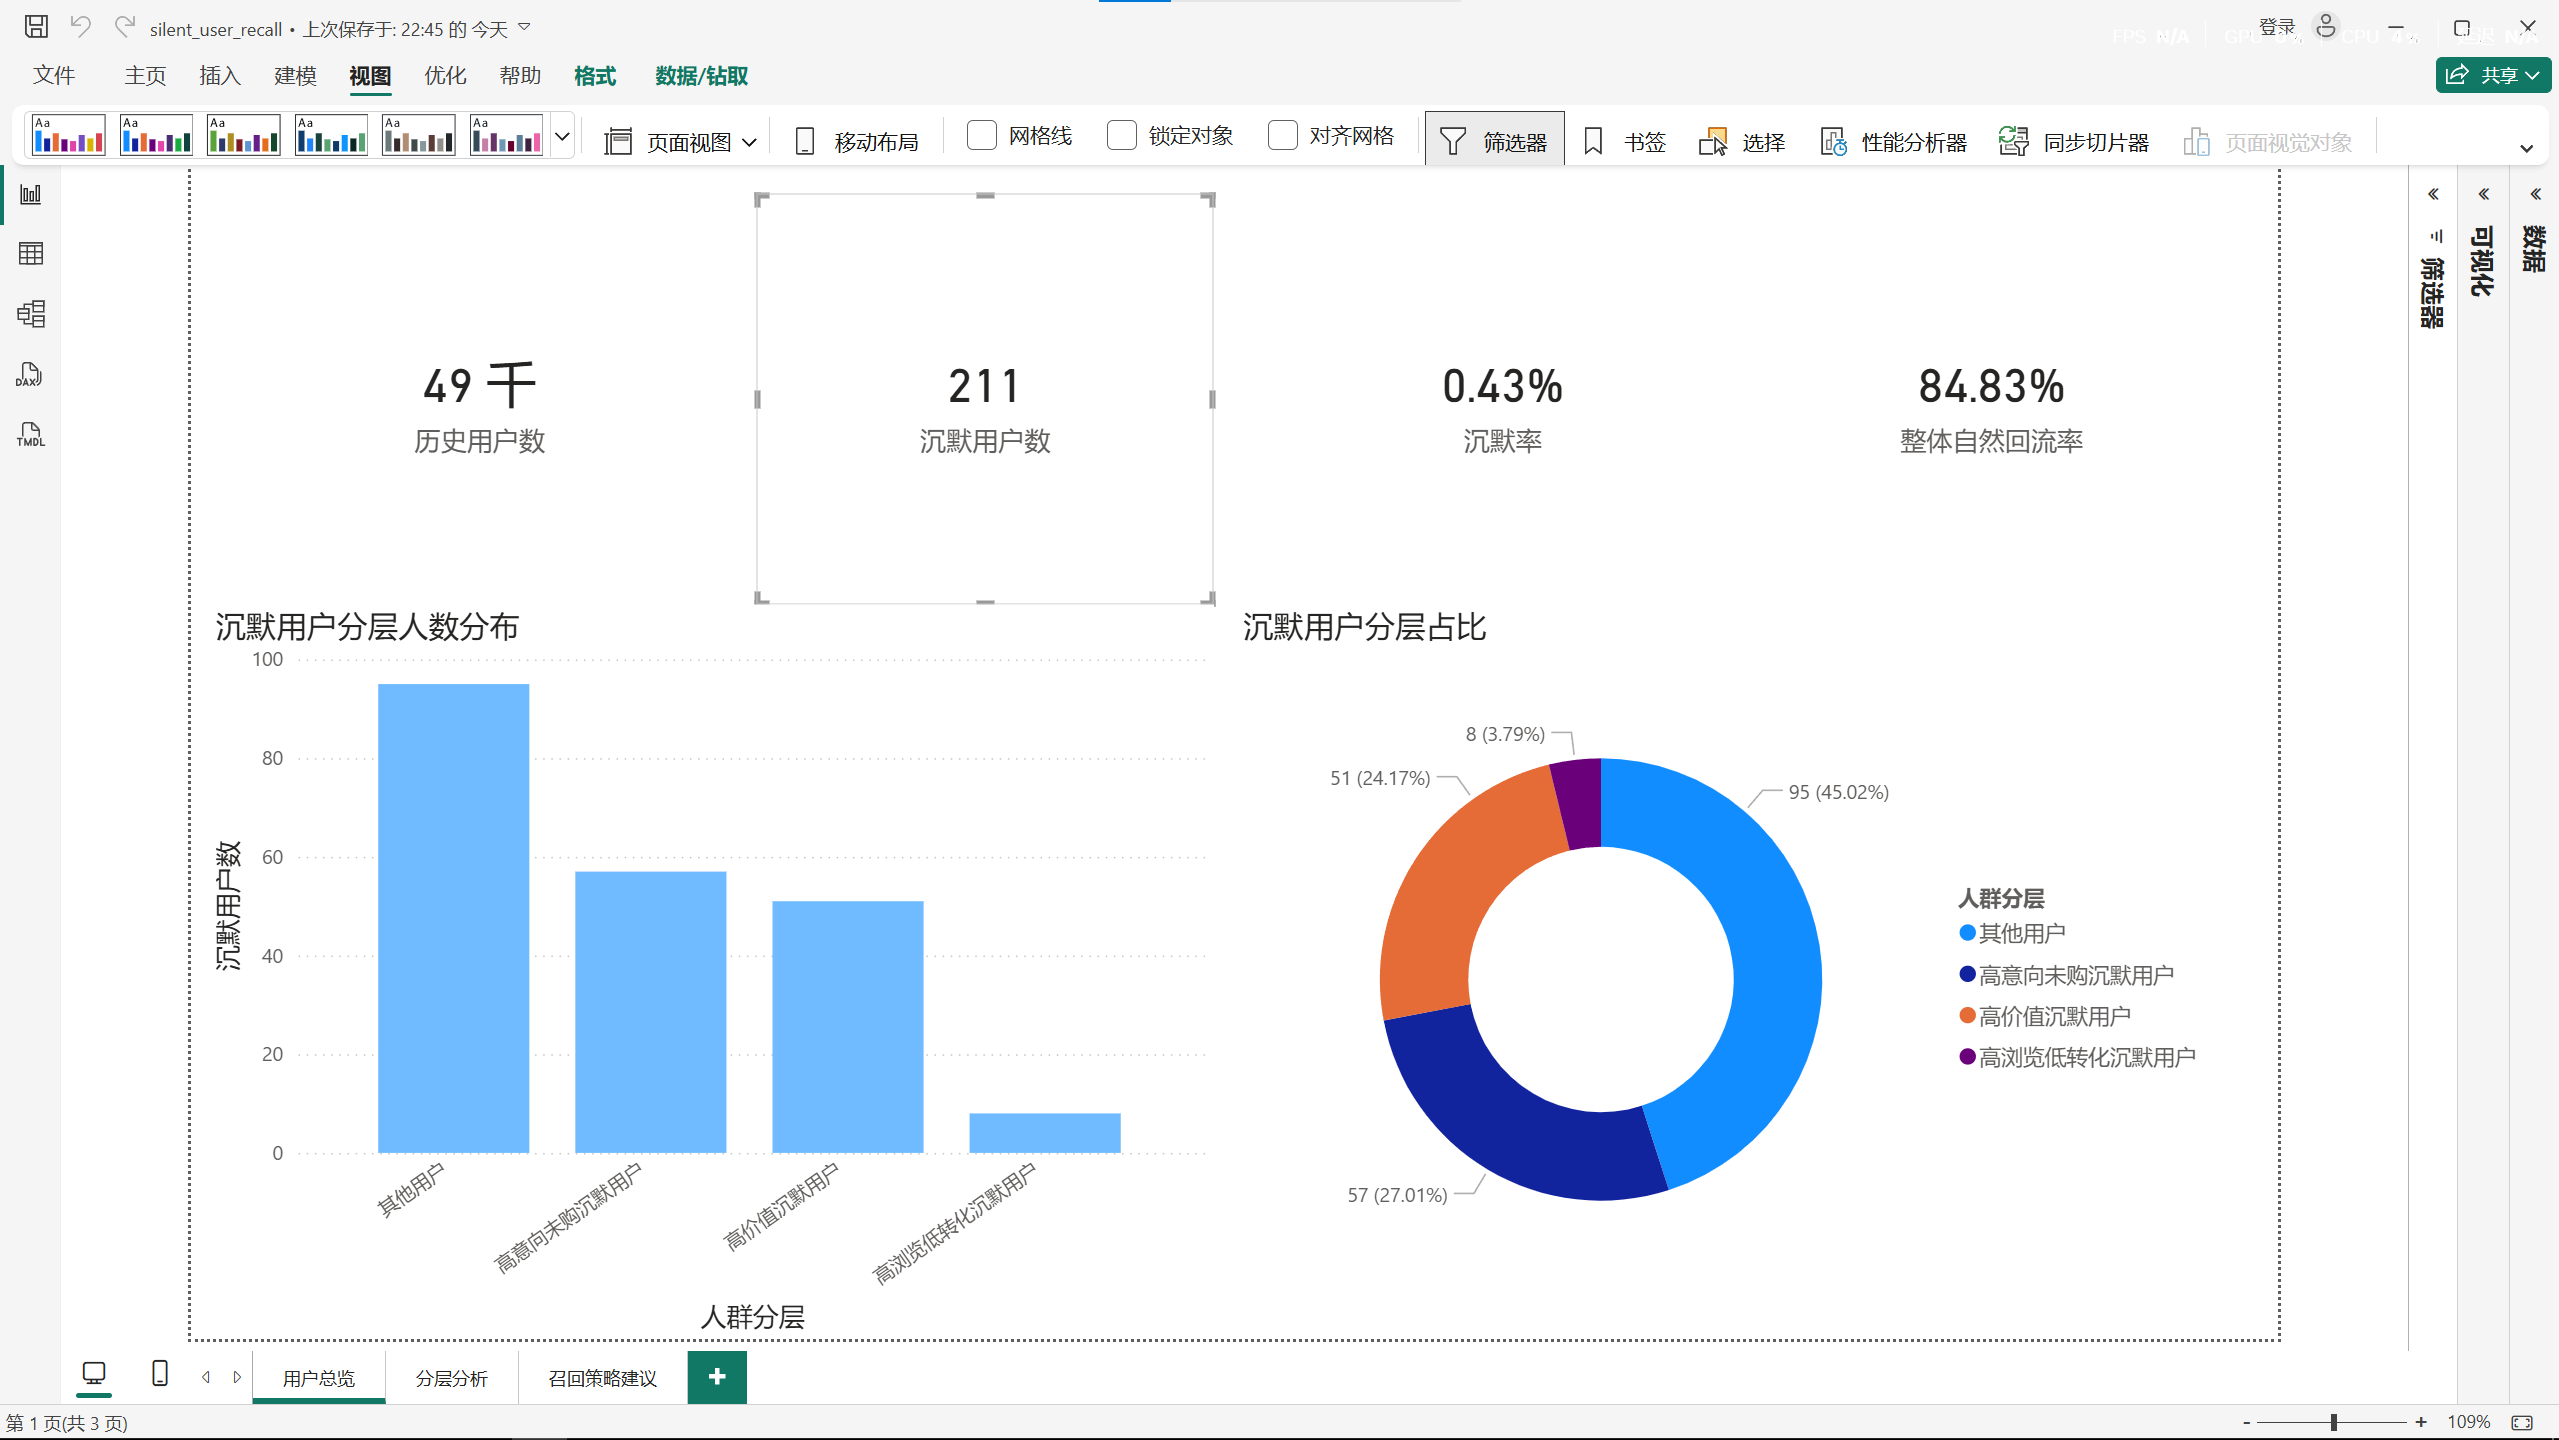

Layout of this report page (visuals, bound fields, positions):
{"tool":"powerbi","page":{"name":"用户总览","canvas":[1280,720],"ordinal":0},"visuals":[{"type":"card","fields":{"Values":["taobao_project_recall_segment.History Users"]},"box":[37.1,17.1,280,252.9],"z":0},{"type":"card","fields":{"Values":["taobao_project_recall_segment.Silent Users"]},"box":[347.1,17.1,280,252.9],"z":1000},{"type":"card","fields":{"Values":["taobao_project_recall_segment.Silent Rate"]},"box":[664.3,17.1,280,252.9],"z":2000},{"type":"card","fields":{"Values":["taobao_project_recall_segment.Overall Natural Return Rate"]},"box":[964.3,17.1,280,252.9],"z":3000},{"type":"clusteredColumnChart","title":"沉默用户分层人数分布","fields":{"Category":["taobao_project_recall_segment.segment"],"Y":["Count(taobao_project_recall_segment.user_id)"]},"box":[10,270,617.1,450],"z":4000},{"type":"donutChart","title":"沉默用户分层占比","fields":{"Category":["taobao_project_recall_segment.segment"],"Y":["Count(taobao_project_recall_segment.user_id)"]},"box":[640,270,604.3,440],"z":5000}]}

Visuals, with their boxes on the page's 1280x720 design canvas (x1, y1, x2, y2). These are canvas units, not pixel positions in the 2559x1440 screenshot, which may show the page scaled, cropped or inside an application window:
card - taobao_project_recall_segment.History Users: box(37, 17, 317, 270)
card - taobao_project_recall_segment.Silent Users: box(347, 17, 627, 270)
card - taobao_project_recall_segment.Silent Rate: box(664, 17, 944, 270)
card - taobao_project_recall_segment.Overall Natural Return Rate: box(964, 17, 1244, 270)
"沉默用户分层人数分布" clusteredColumnChart: box(10, 270, 627, 720)
"沉默用户分层占比" donutChart: box(640, 270, 1244, 710)
